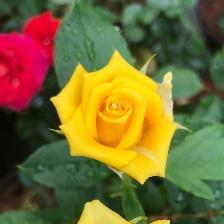rose: (49, 52, 188, 186)
